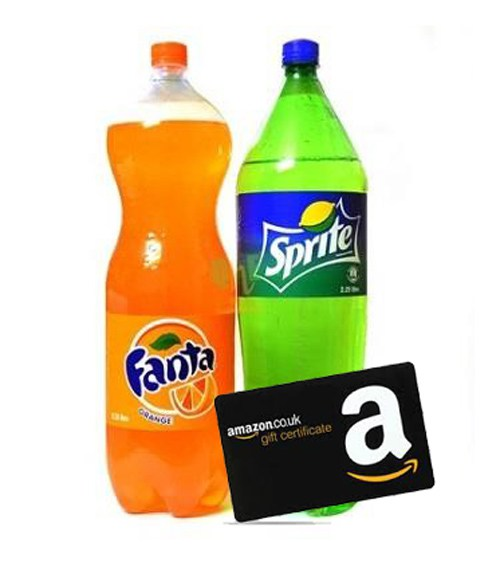fanta: (108, 56, 227, 513)
